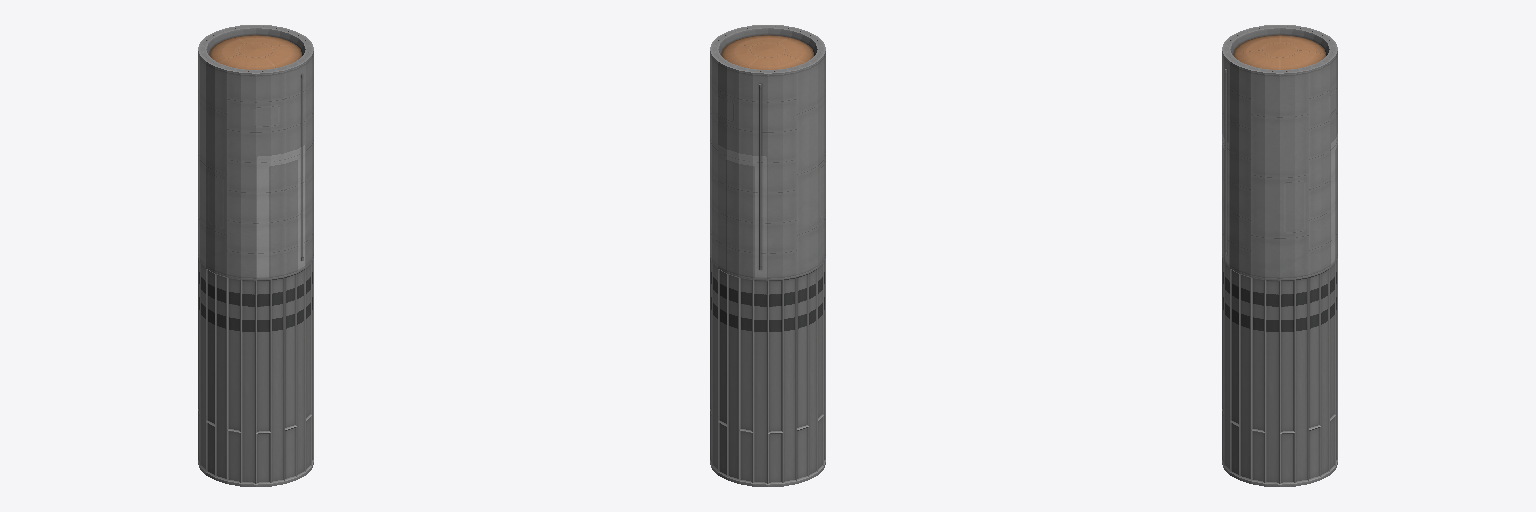
The picture shows the model from 3 angles: view 1: azimuth 30°, elevation 25°; view 2: azimuth 150°, elevation 25°; view 3: azimuth 270°, elevation 25°; orthographic projection.
Visible parts, largest first — view 1: Prince_LFO_A; view 2: Prince_LFO_A; view 3: Prince_LFO_A.
Boxes of the visible parts, x1,y1,x2,y2 form: Prince_LFO_A: [198, 25, 313, 486]; Prince_LFO_A: [710, 25, 825, 486]; Prince_LFO_A: [1222, 25, 1337, 486].
Size of the model in its own units: 1.88 by 7.36 by 1.88.
1 materials, 1 textured.